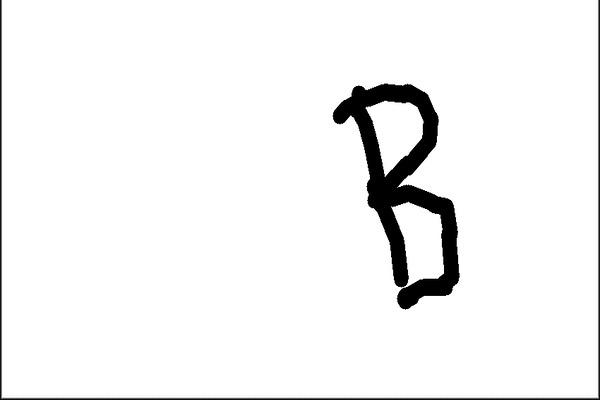B: (327, 75, 472, 311)
